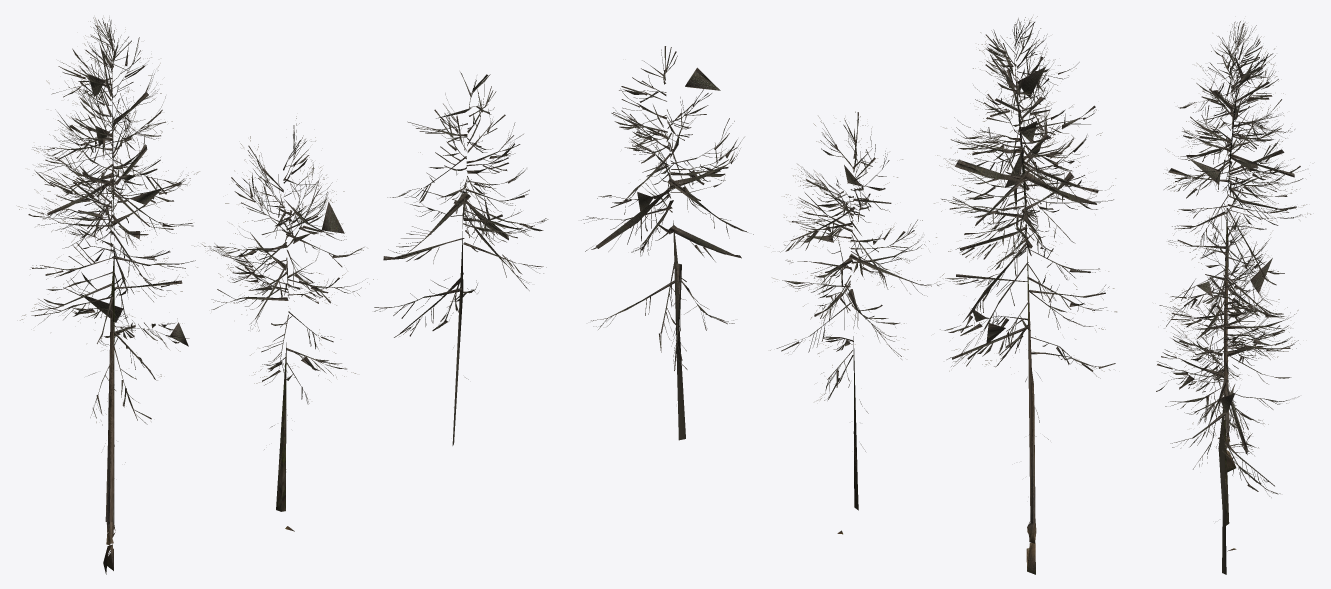
The model's file is V_fir_tree_01.glb.
3 renders of one model, left to right at view 1: azimuth 30°, elevation 25°; view 2: azimuth 150°, elevation 25°; view 3: azimuth 270°, elevation 25°, orthographic. The views are drawn at different scales.
Parts seen in each view (by area): view 1: V_fir_tree_01; view 2: V_fir_tree_01; view 3: V_fir_tree_01.
Part boxes in pixels (x1,y1,x2,y2): V_fir_tree_01: [18, 17, 548, 574]; V_fir_tree_01: [581, 16, 1116, 574]; V_fir_tree_01: [1156, 21, 1310, 574].
Size of the model in its own units: 10.53 by 10.74 by 3.49.
Materials: 6 (6 with a texture image).
